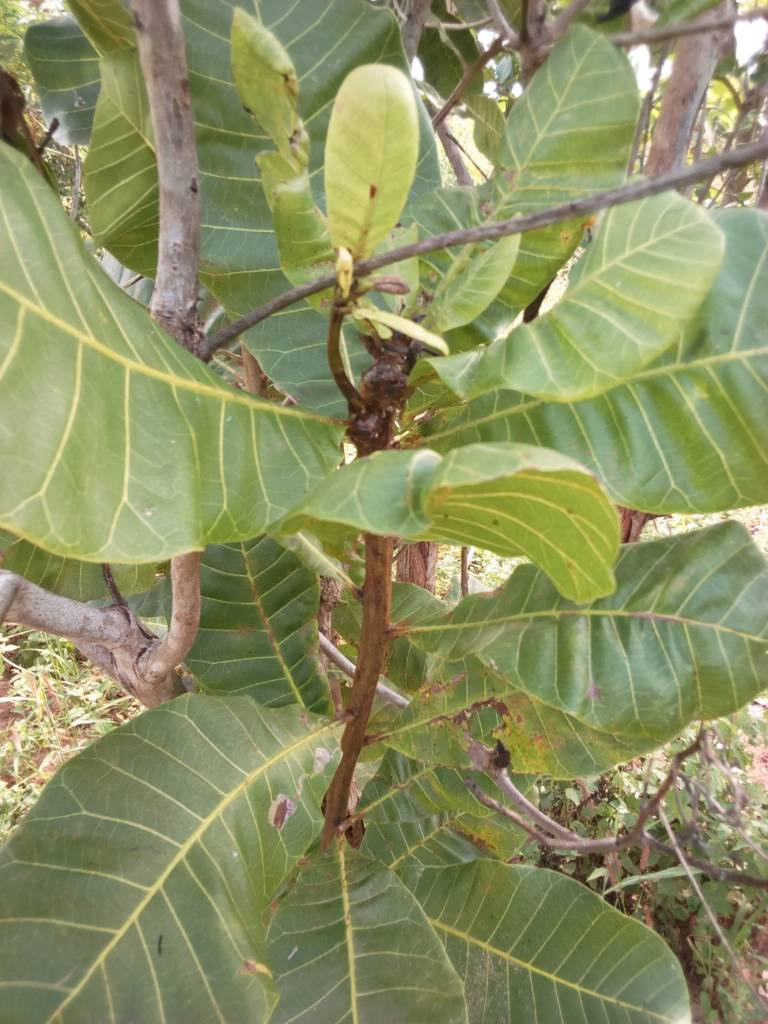Helopeltis anacardii: (222, 10, 335, 294)
